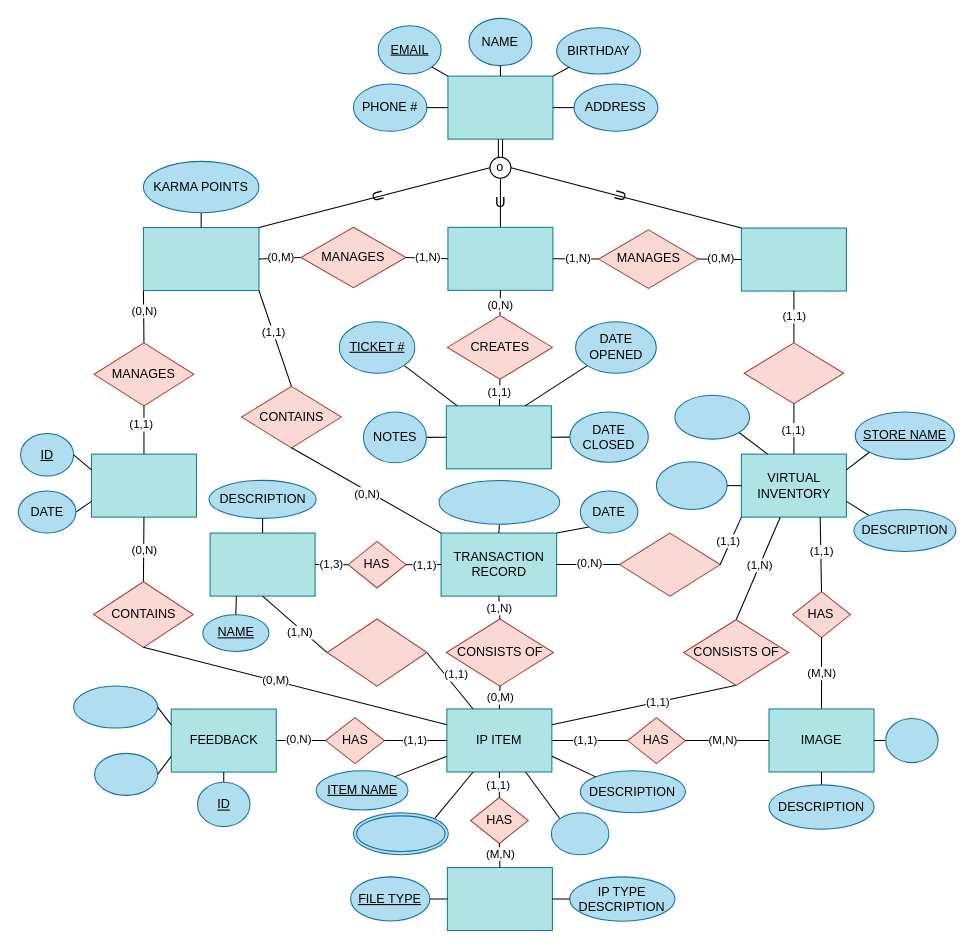
The diagram is 974 pixels wide and 949 high, and some of its shapes have lost their labels. The shapes that lost their labels are listed below. From the top down, each one's centre as x and y in pixels, then its label:
At [500,107]: "ACCOUNTS".
At [200,258]: "BUYER ACCOUNT".
At [500,258]: "SUPPORT ACCOUNT".
At [793,259]: "SELLER ACCOUNT".
At [793,373]: "HOSTS".
At [712,416]: "WEB URL".
At [498,437]: "TROUBLE TICKET".
At [143,485]: "WISHLIST".
At [499,502]: "TRANSACTION #".
At [691,485]: "SELLER BIO".
At [262,564]: "PAYMENT TYPE".
At [669,564]: "COMPLETES".
At [376,652]: "CAN USE".
At [115,706]: "COMMENT".
At [911,740]: "URL".
At [126,773]: "STARS".
At [400,833]: "KEYWORD".
At [579,833]: "PRICE".
At [499,898]: "IP TYPE".
